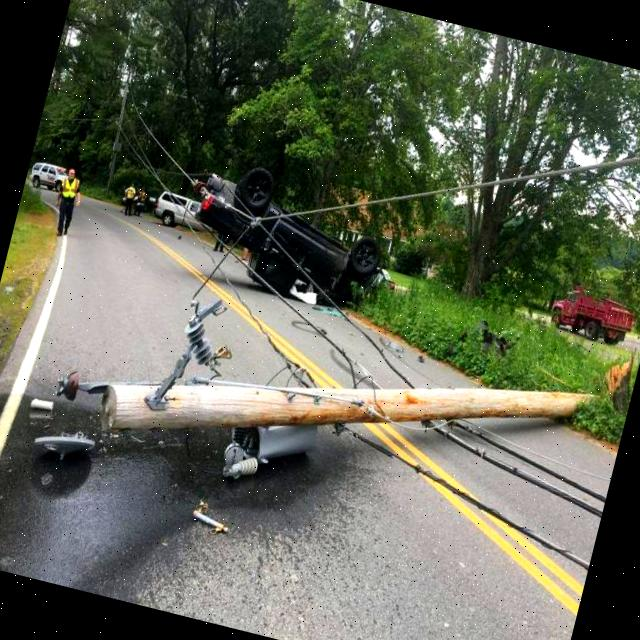Broken Pole: (15, 280, 605, 481)
